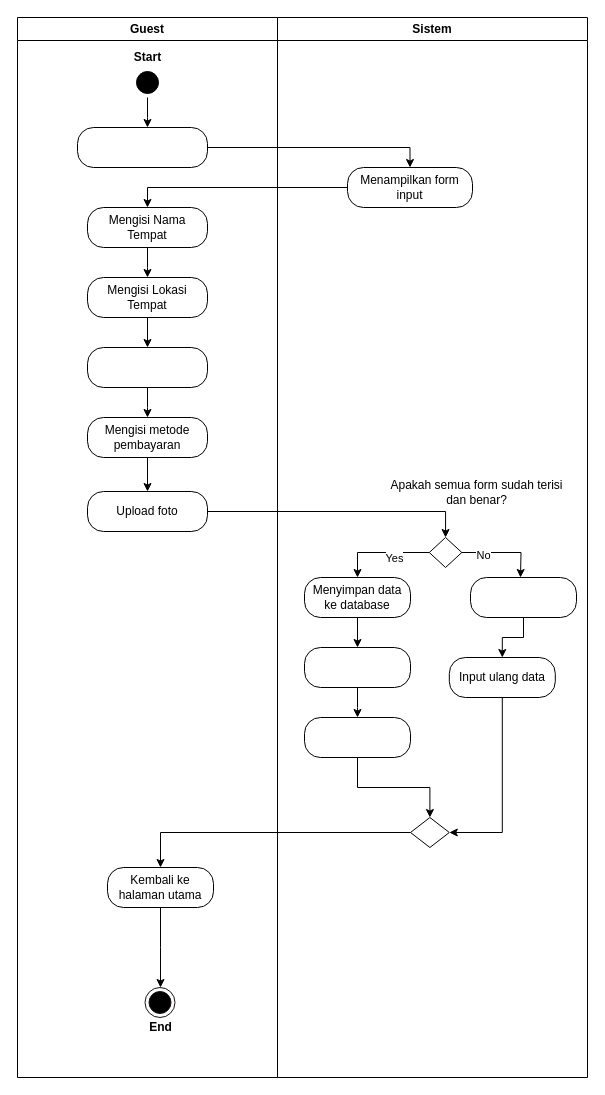
Image size: 605x1095. Some labels were removed from this diagram. Each missing label, with the centre of its shape:
"Membuka halaman input tempat warung" goes at point (142, 147).
"Menampilkan lokasi data" goes at point (357, 737).
"Menampilkan notifikasi error" goes at point (523, 597).
"Menampilkan notikasi sukses" goes at point (357, 667).
"Mengisi jam buka tempat" goes at point (147, 367).
